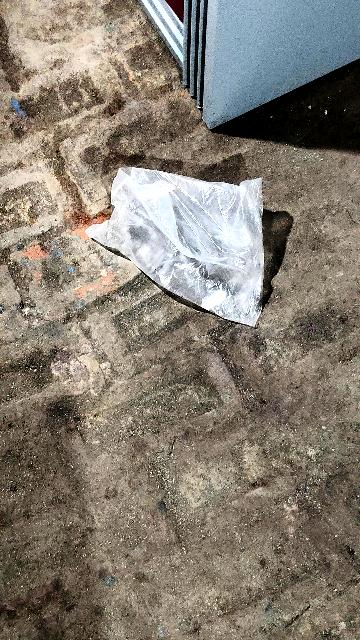polythene: (106, 172, 276, 328)
